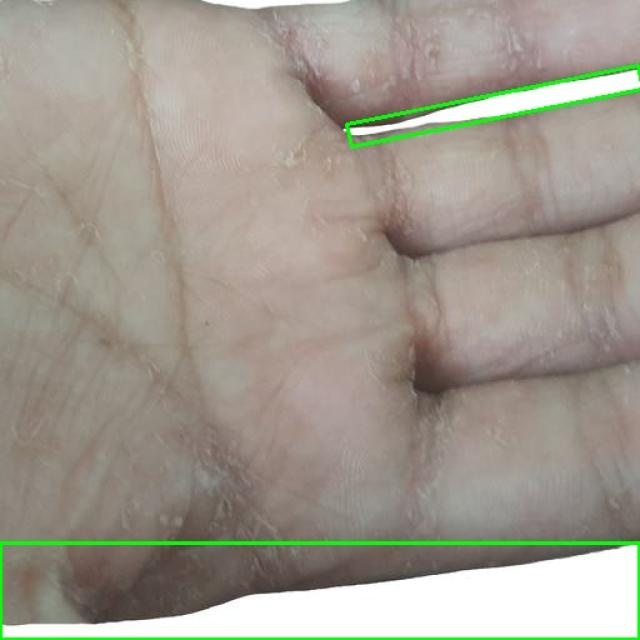Scabies: (0, 542, 639, 639), (347, 66, 640, 147)
